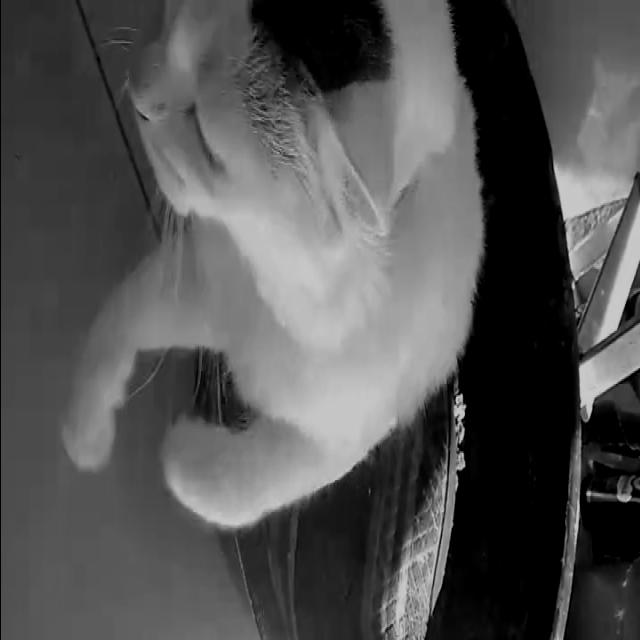Simba: (63, 0, 519, 525)
